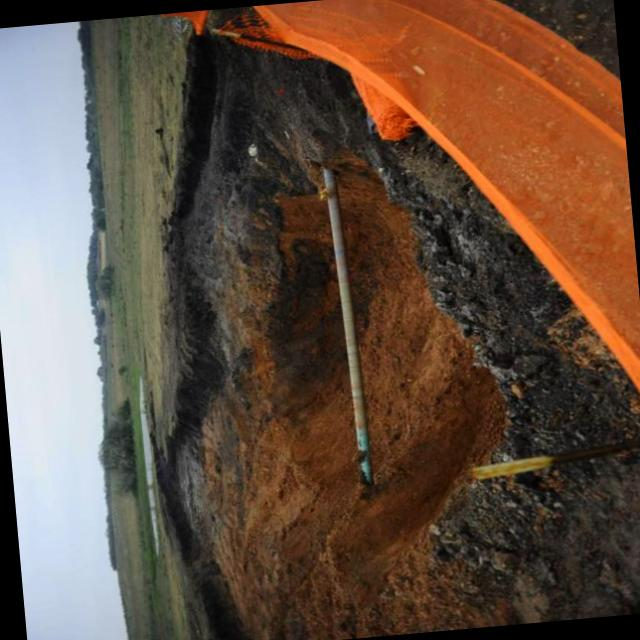gas: (324, 166, 373, 484)
